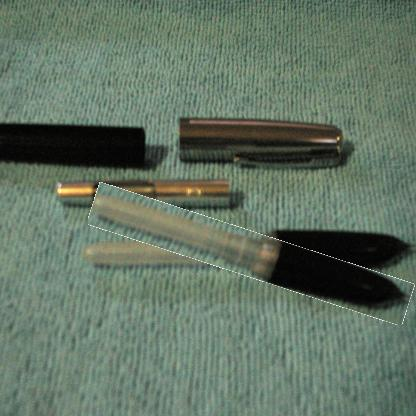Pen: (86, 207, 415, 301)
